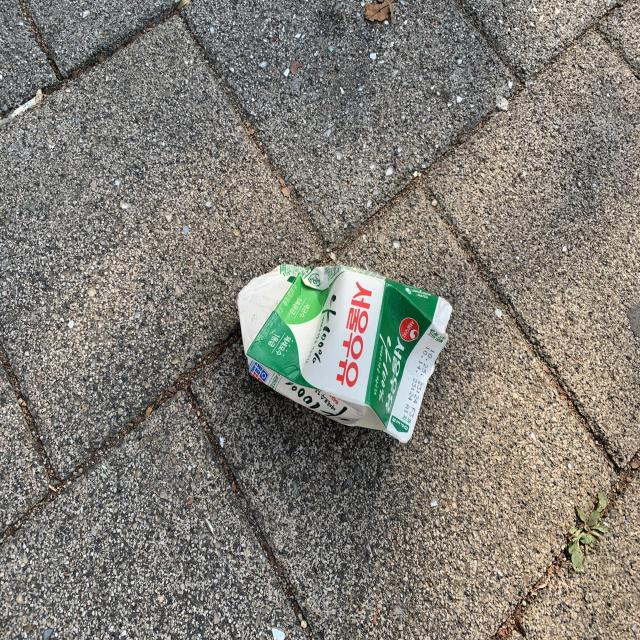paperpack: (237, 264, 452, 442)
